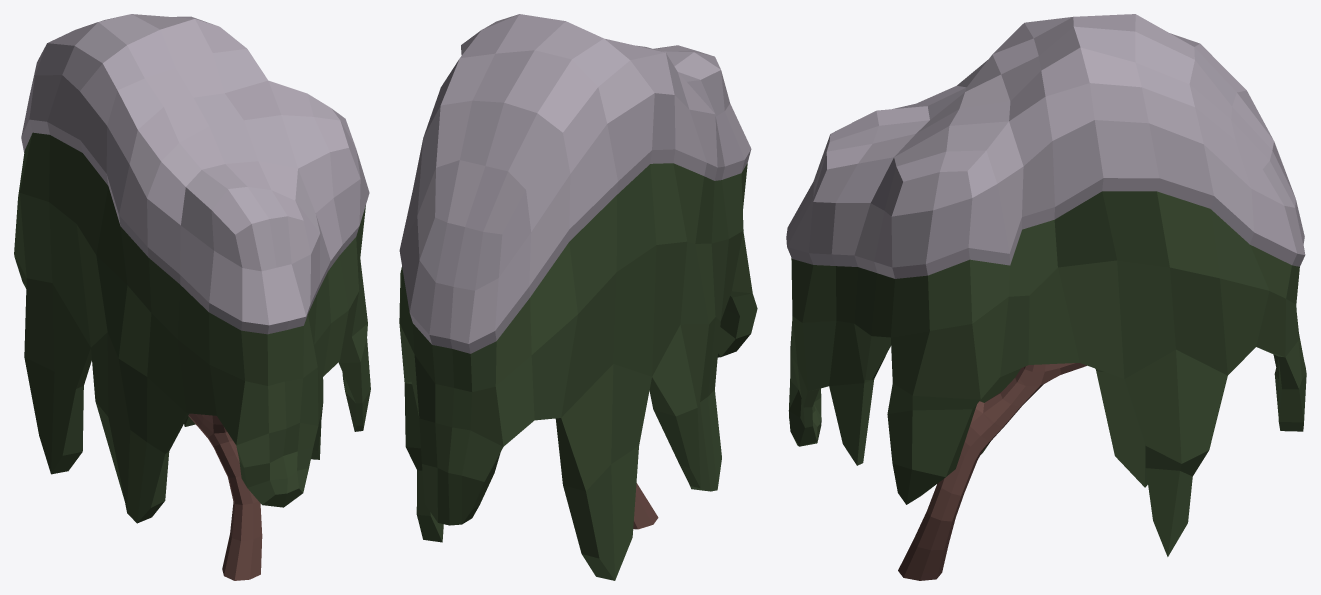
File: Willow_Snow_1.glb
3 views of the same model, side by side, from view 1: azimuth 30°, elevation 25°; view 2: azimuth 150°, elevation 25°; view 3: azimuth 270°, elevation 25° (orthographic). The views are drawn at different scales.
Parts seen in each view (by area): view 1: Willow_Snow_1_Cube.145; view 2: Willow_Snow_1_Cube.145; view 3: Willow_Snow_1_Cube.145.
Boxes of the visible parts, x1,y1,x2,y2 form: Willow_Snow_1_Cube.145: (14, 14, 370, 580); Willow_Snow_1_Cube.145: (399, 14, 757, 580); Willow_Snow_1_Cube.145: (786, 14, 1306, 580).
Size of the model in its own units: 1.45 by 2.93 by 2.57.
